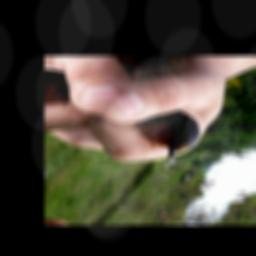Swallow: (116, 101, 217, 165)
